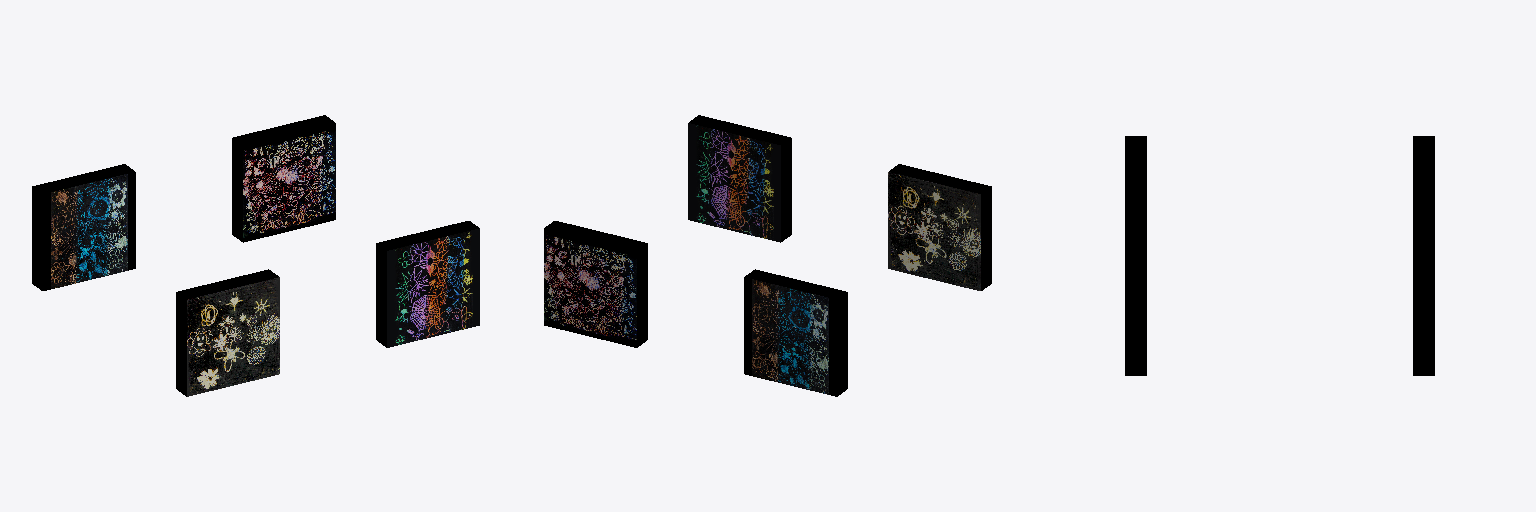
3 renders of one model, left to right at view 1: azimuth 30°, elevation 25°; view 2: azimuth 150°, elevation 25°; view 3: azimuth 270°, elevation 25°, orthographic.
Parts seen in each view (by area): view 1: Cube_0, Cube_1, Cube_5, Cube_6; view 2: Cube_0, Cube_1, Cube_5, Cube_6; view 3: Cube_1, Cube_6, Cube_0, Cube_5.
Boxes of the visible parts, x1=… form: Cube_0: x1=176, y1=269, x2=279, y2=396; Cube_1: x1=376, y1=221, x2=479, y2=347; Cube_5: x1=32, y1=164, x2=135, y2=290; Cube_6: x1=232, y1=115, x2=335, y2=242; Cube_0: x1=888, y1=164, x2=991, y2=290; Cube_1: x1=688, y1=115, x2=791, y2=242; Cube_5: x1=744, y1=269, x2=847, y2=396; Cube_6: x1=544, y1=221, x2=647, y2=347; Cube_1: x1=1125, y1=234, x2=1146, y2=375; Cube_6: x1=1413, y1=234, x2=1434, y2=375; Cube_0: x1=1125, y1=136, x2=1146, y2=233; Cube_5: x1=1413, y1=136, x2=1434, y2=233.
Bounding box in the file's own units: 1262 × 400 × 1154.
Materials: 5 (4 with a texture image).